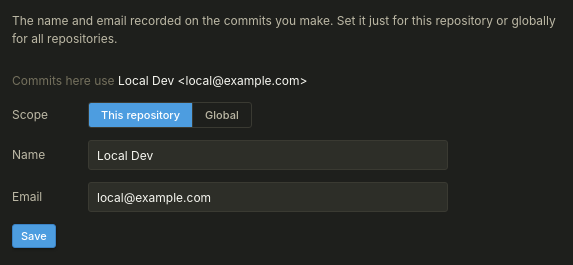
GitIdentitySettings › prefills from the global scope when switched
The width and height of the screenshot is (573, 265).
Expected: the field named "Identity name" holds "Local Dev", left=88, top=140, right=448, bottom=170
Click the button "Global": (221, 115) left=192, top=103, right=251, bottom=127
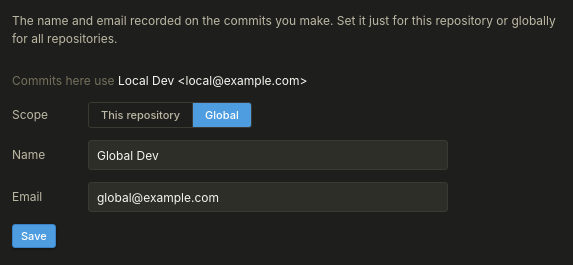
Now the field named "Identity name" holds "Global Dev", box left=88, top=140, right=448, bottom=170
Now the field named "Identity email" holds "global@example.com", box left=88, top=182, right=448, bottom=212
